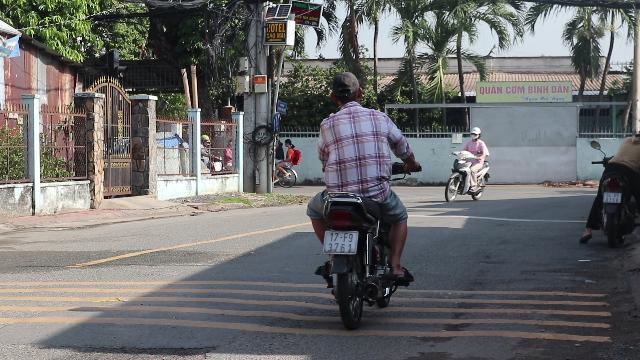licenseplate: (324, 231, 356, 253), (603, 192, 621, 202)
motorcyclist: (302, 66, 418, 324), (582, 83, 640, 245)
nohelmet: (328, 72, 362, 108)
